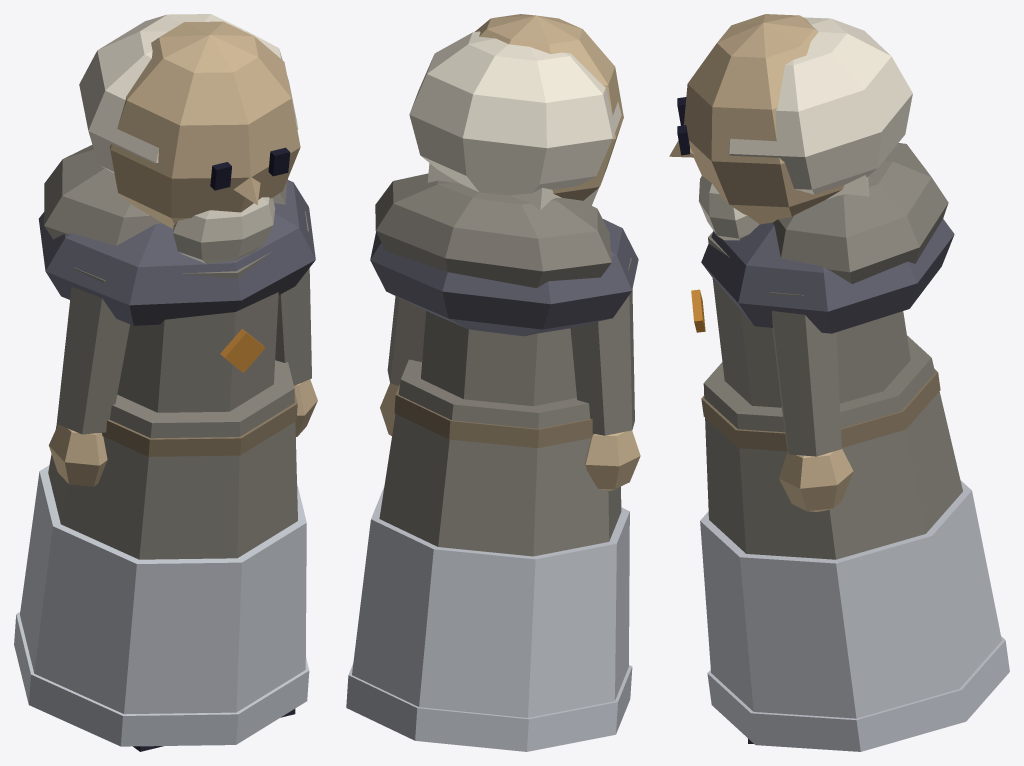
Rendered from iver_nolamp.glb.
3 renders of one model, left to right at view 1: azimuth 30°, elevation 25°; view 2: azimuth 150°, elevation 25°; view 3: azimuth 270°, elevation 25°, orthographic. The views are drawn at different scales.
Visible parts, largest first — view 1: Torso, Head, ArmR, ArmL; view 2: Torso, Head, ArmR, ArmL; view 3: Torso, Head, ArmL.
Part boxes in pixels (x1,y1,x2,y2): Torso: (14, 145, 315, 746); Head: (79, 14, 300, 263); ArmR: (48, 267, 129, 486); ArmL: (275, 211, 317, 436); Torso: (346, 173, 638, 751); Head: (409, 14, 623, 210); ArmR: (570, 258, 640, 490); ArmL: (380, 296, 426, 435); Torso: (691, 143, 1009, 751); Head: (669, 14, 912, 240); ArmL: (769, 292, 853, 511).
Bounding box in the file's own units: 0.6732 × 1.69 × 0.7638.
